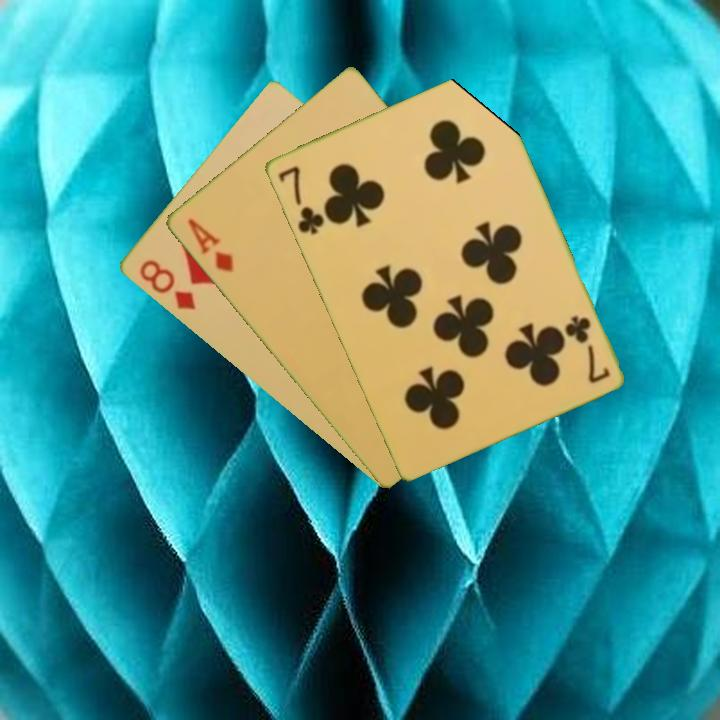7c: (274, 162, 327, 238), (561, 312, 613, 386)
8d: (135, 256, 198, 314)
Ad: (183, 214, 236, 276)
